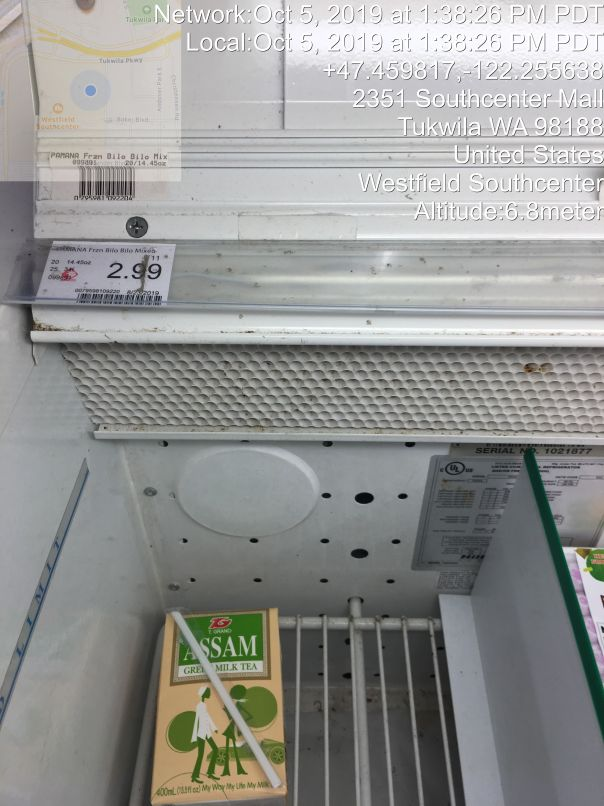Green Milk Tea: (156, 596, 296, 776)
Label: (41, 228, 182, 316)
Location: (349, 81, 604, 203)
Time: (145, 1, 604, 62)
Void: (298, 600, 436, 772)
